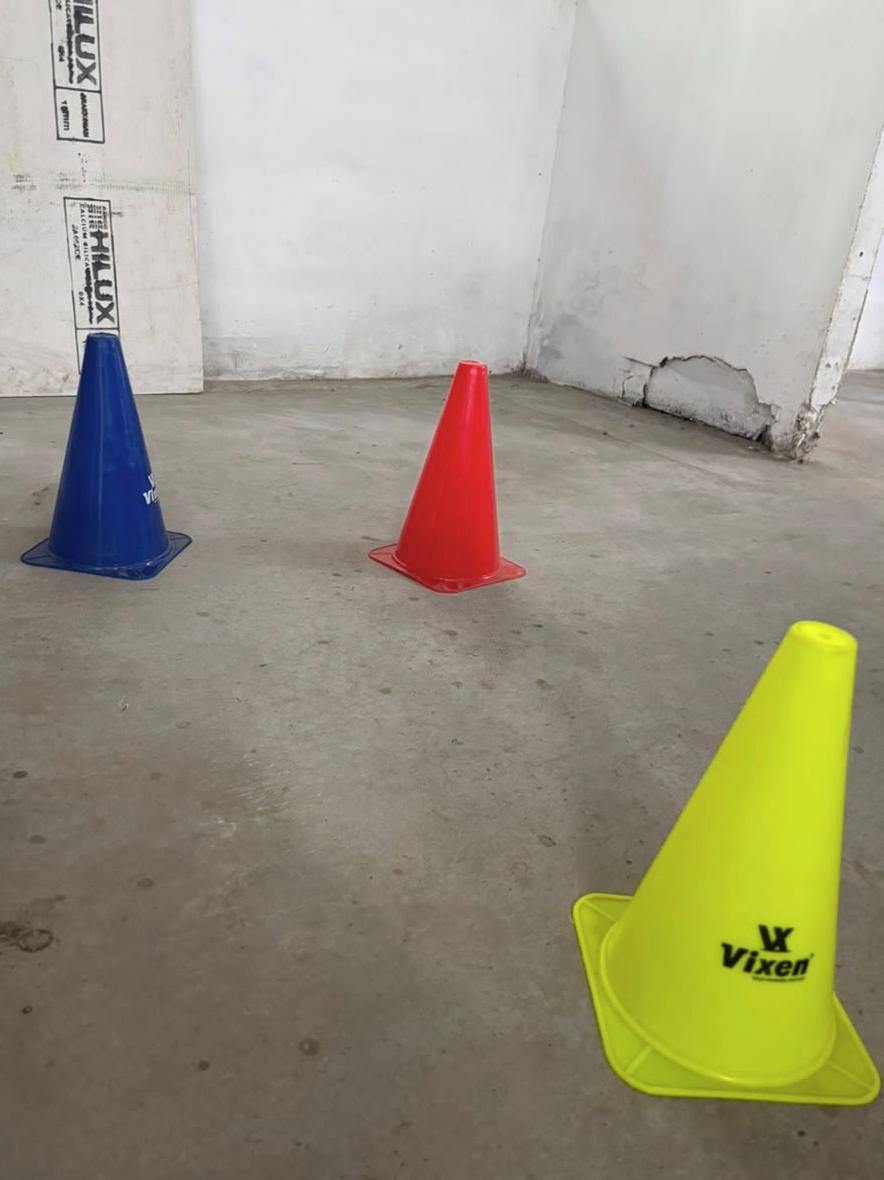0 cone: (572, 622, 866, 1104), (21, 333, 189, 578), (368, 362, 524, 592)
